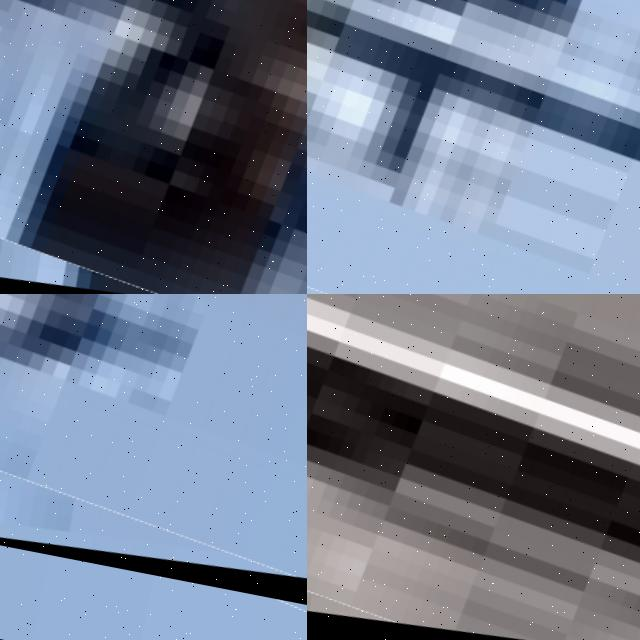drone: (307, 294, 640, 640), (0, 294, 307, 639), (307, 0, 640, 294), (0, 0, 307, 294)
